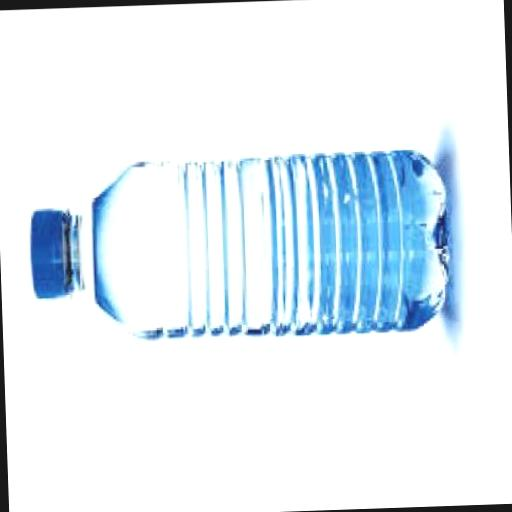plastic: (23, 149, 450, 346), (27, 212, 74, 300)
